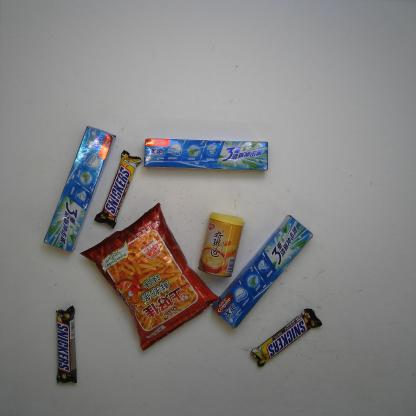Canned Food: (198, 212, 244, 280)
Chocolate: (252, 309, 325, 366), (96, 151, 141, 228), (54, 307, 80, 383)
Personal Hygiene: (209, 214, 314, 330), (41, 125, 116, 253), (144, 138, 269, 171)
Puffed Food: (78, 202, 218, 352)
